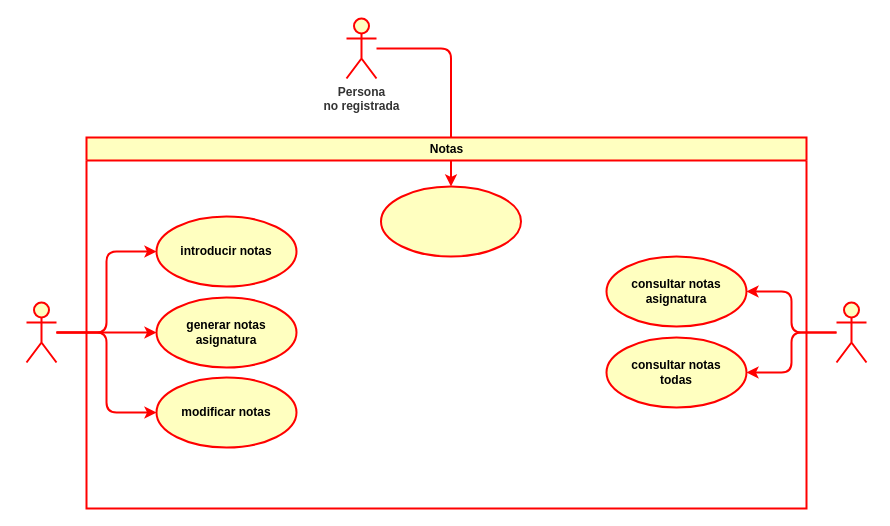
Image size: 890x526. Some labels were removed from this diagram. Each missing label, with the centre of its shape:
"Alumno" goes at (851,332).
"Profesor" goes at (41,332).
"registrarse" goes at (451,221).
